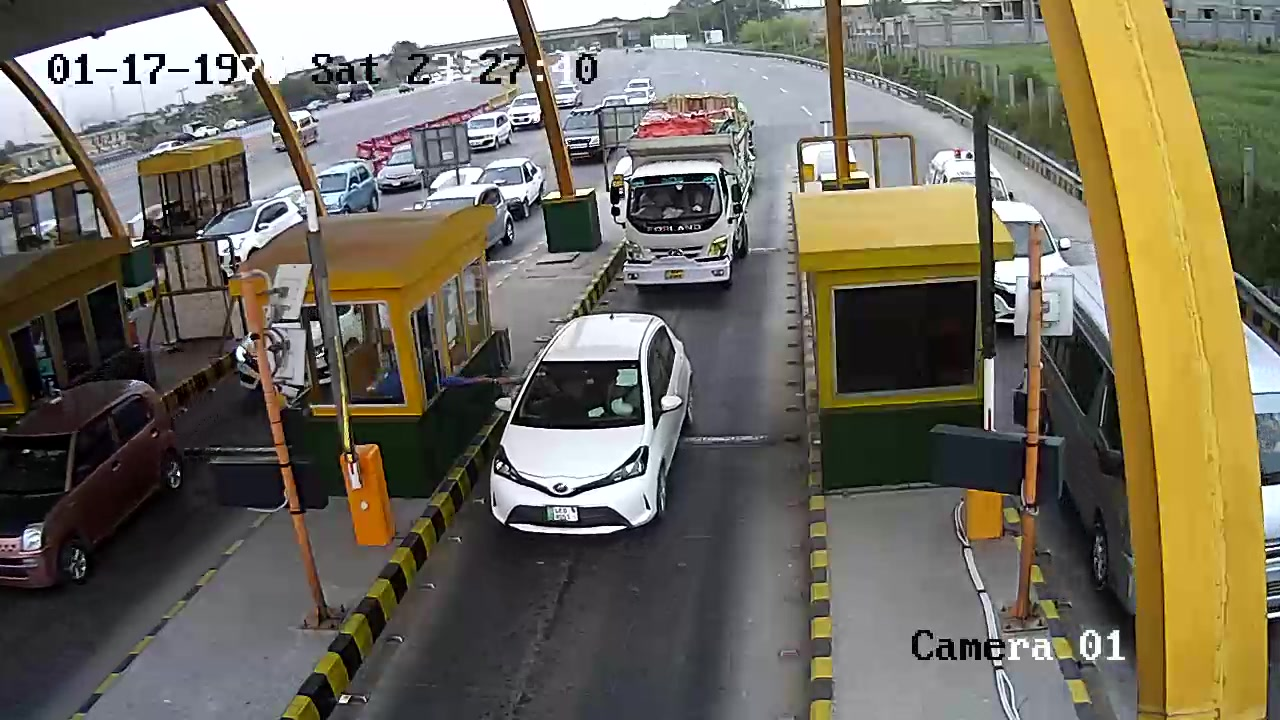F1: (483, 303, 693, 540)
F5: (599, 83, 762, 298)
